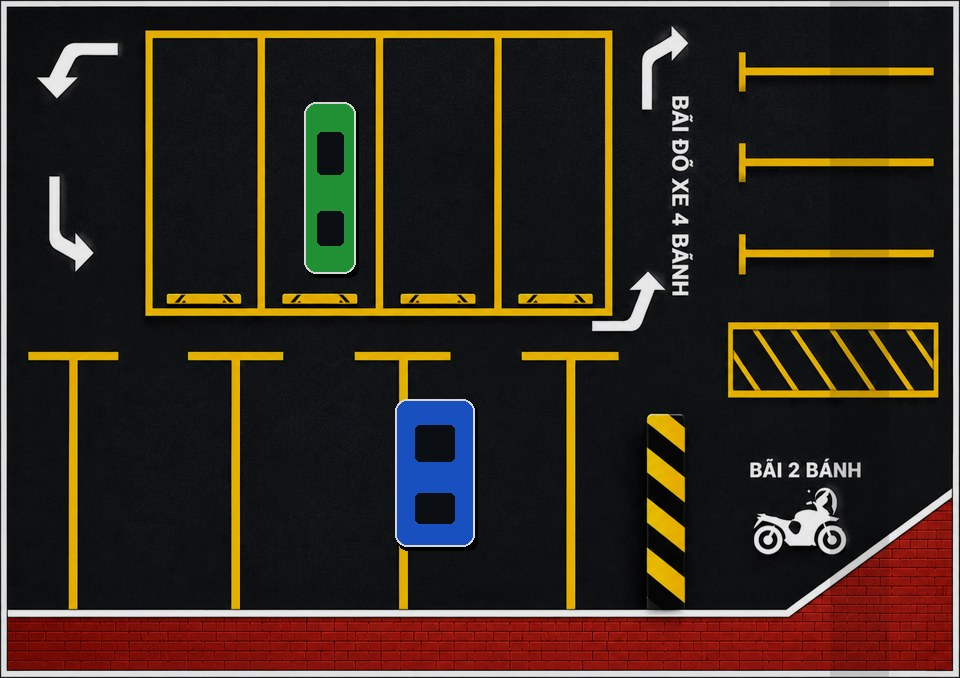empty: (35, 351, 199, 598), (201, 351, 357, 598), (524, 351, 672, 598), (148, 35, 267, 309), (386, 35, 505, 309), (505, 35, 624, 309)
occupied: (360, 351, 518, 598), (267, 35, 386, 309)
